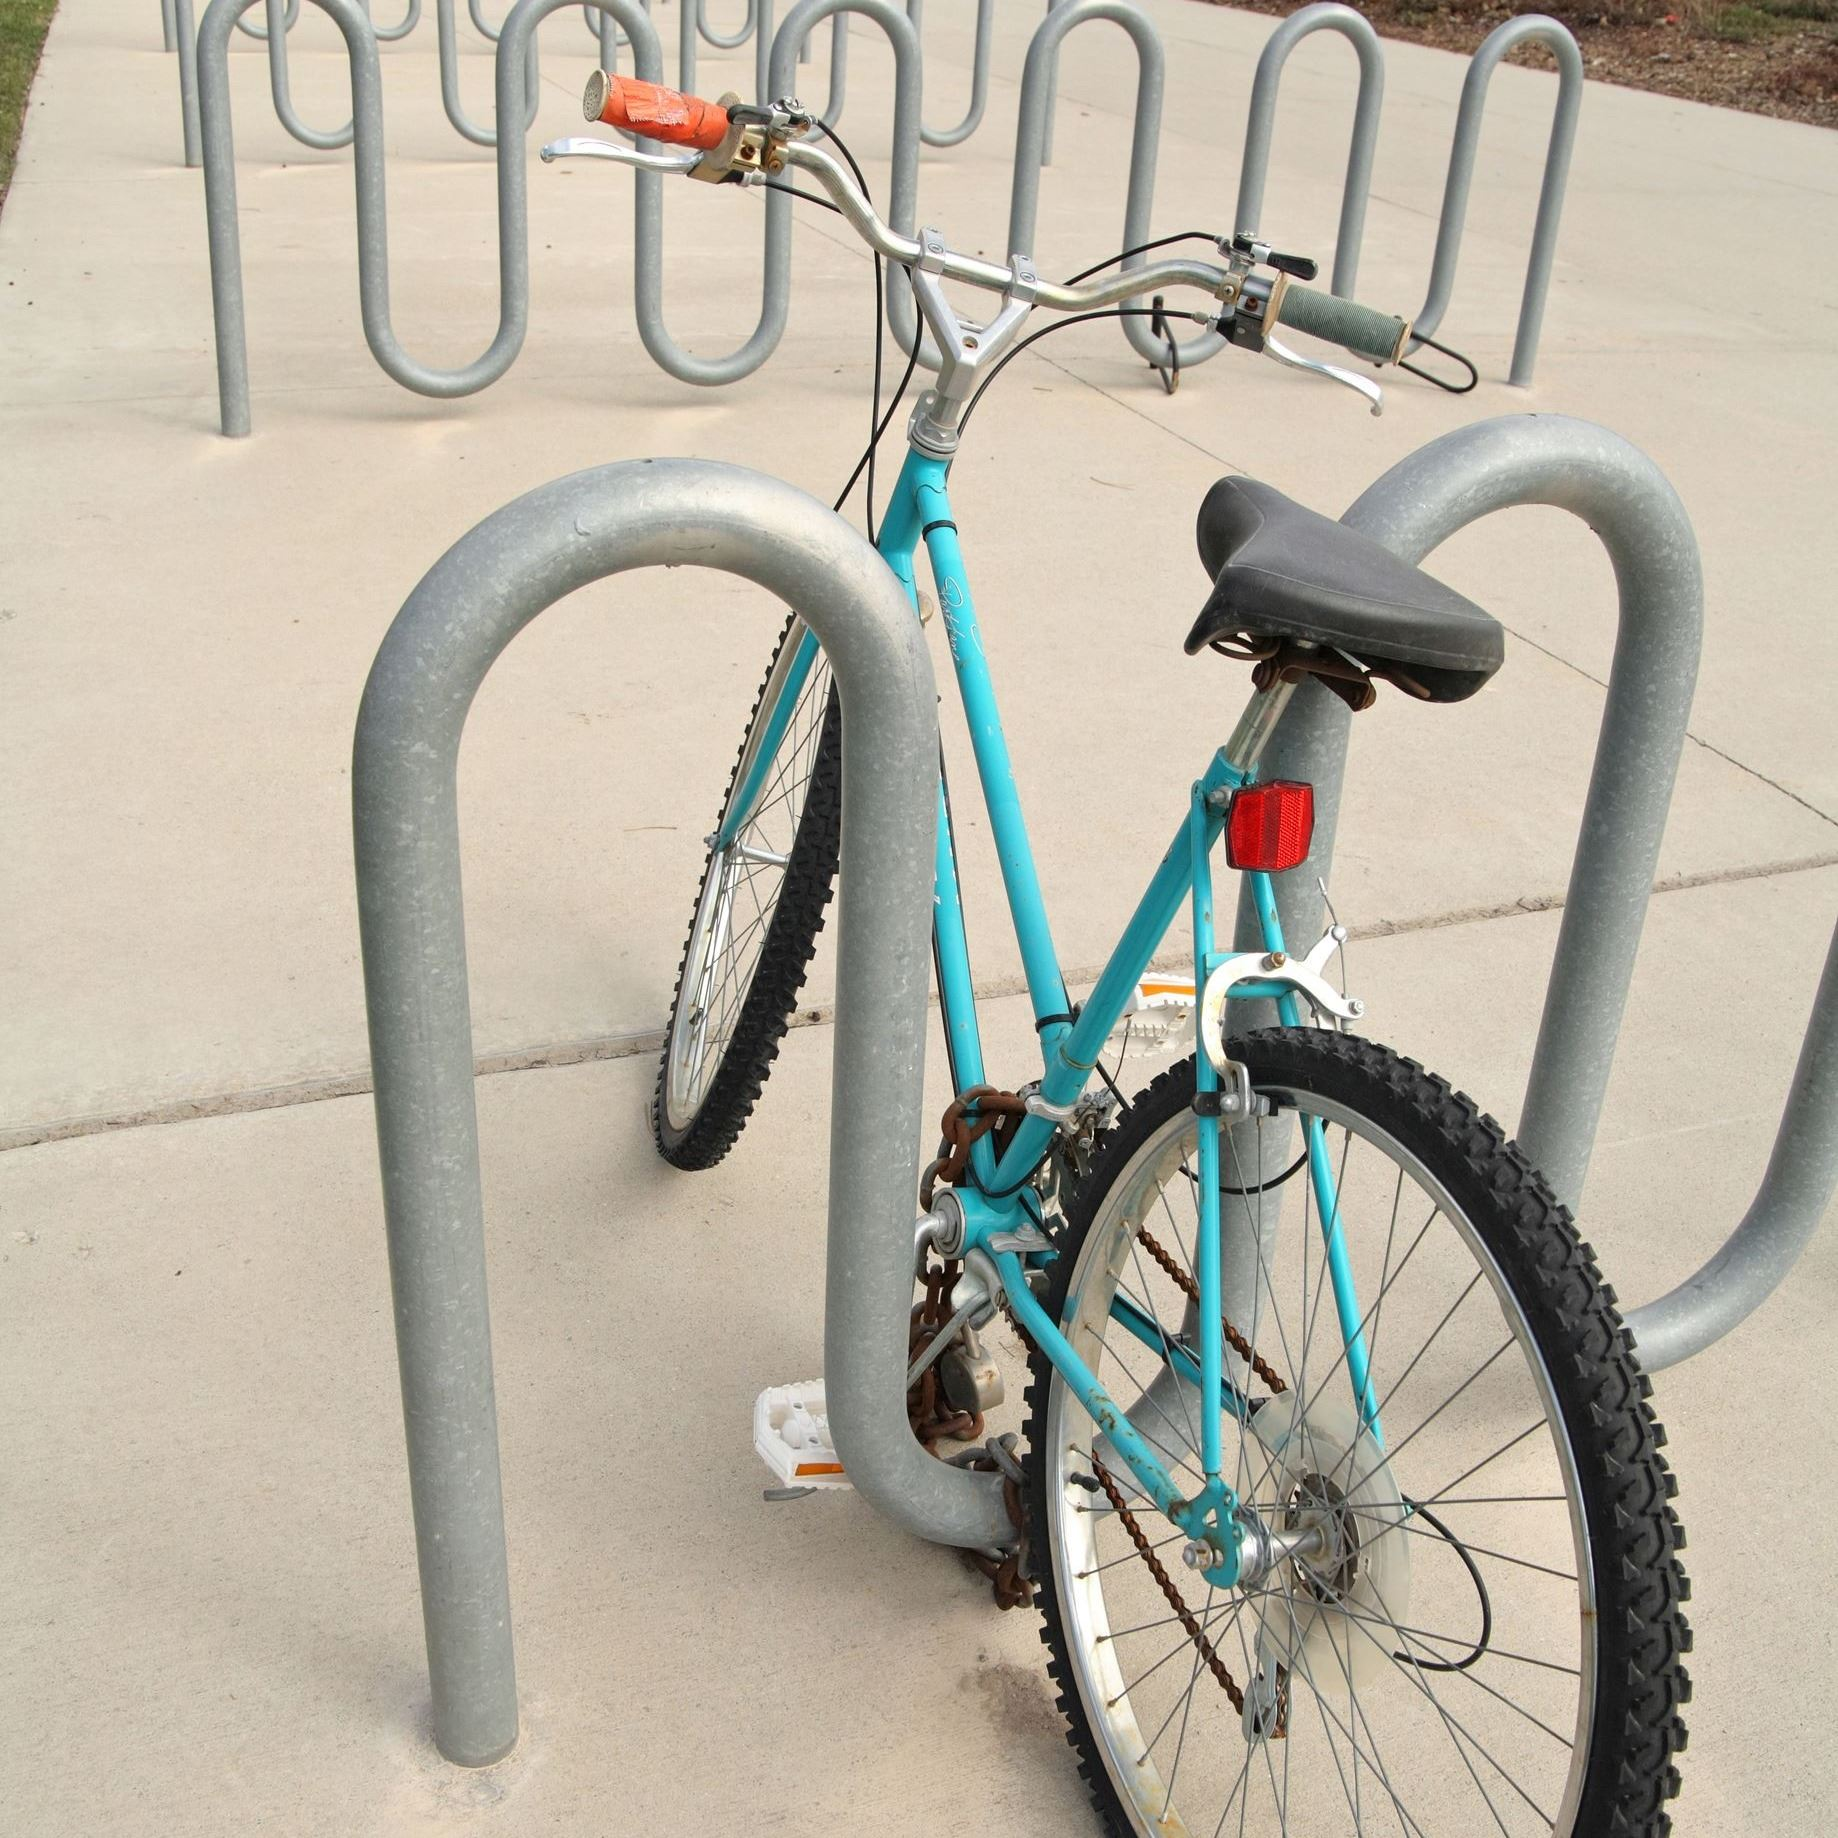bike: (512, 56, 1838, 1835)
